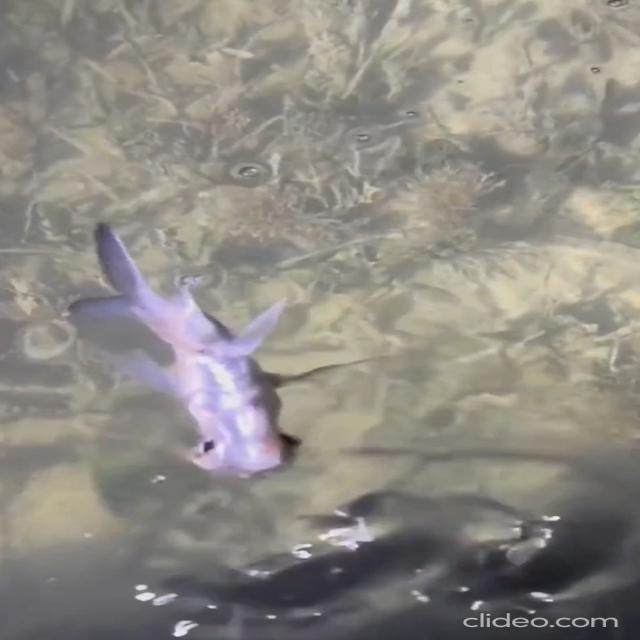fish: (66, 212, 347, 489)
